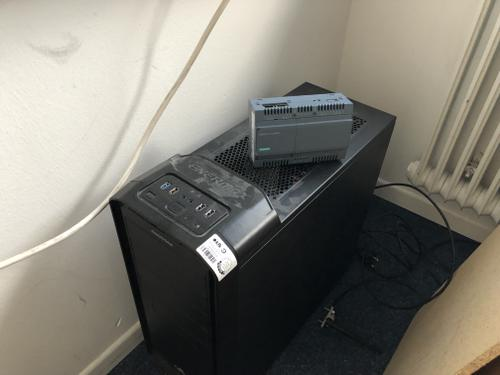device: (249, 93, 354, 168)
